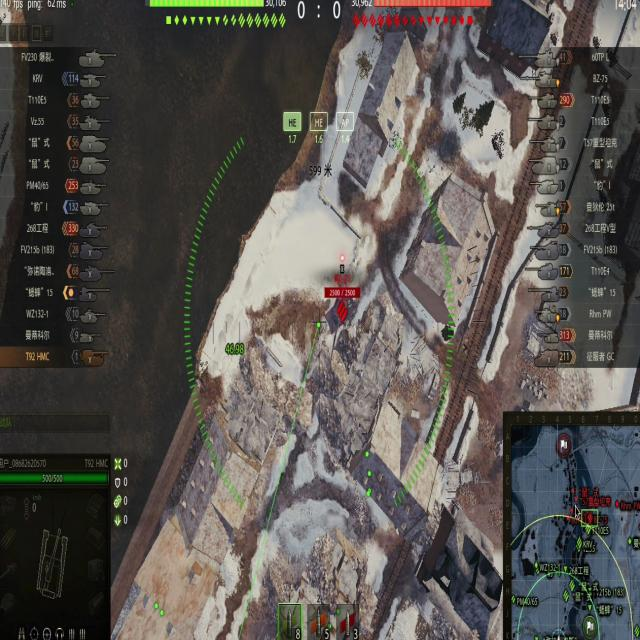tank: (320, 288, 360, 326)
